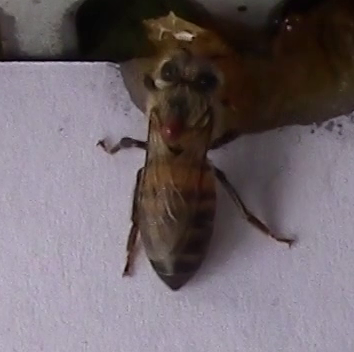Varroa destructor: (161, 119, 188, 144)
